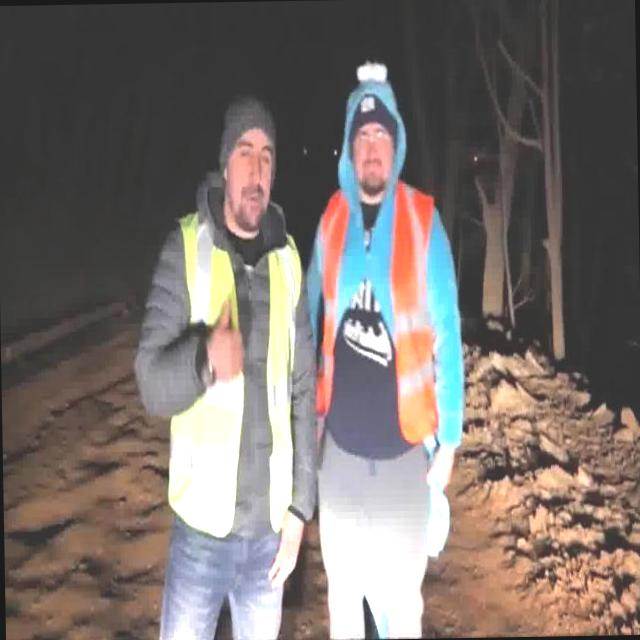vest: (161, 210, 307, 540), (319, 188, 438, 444)
